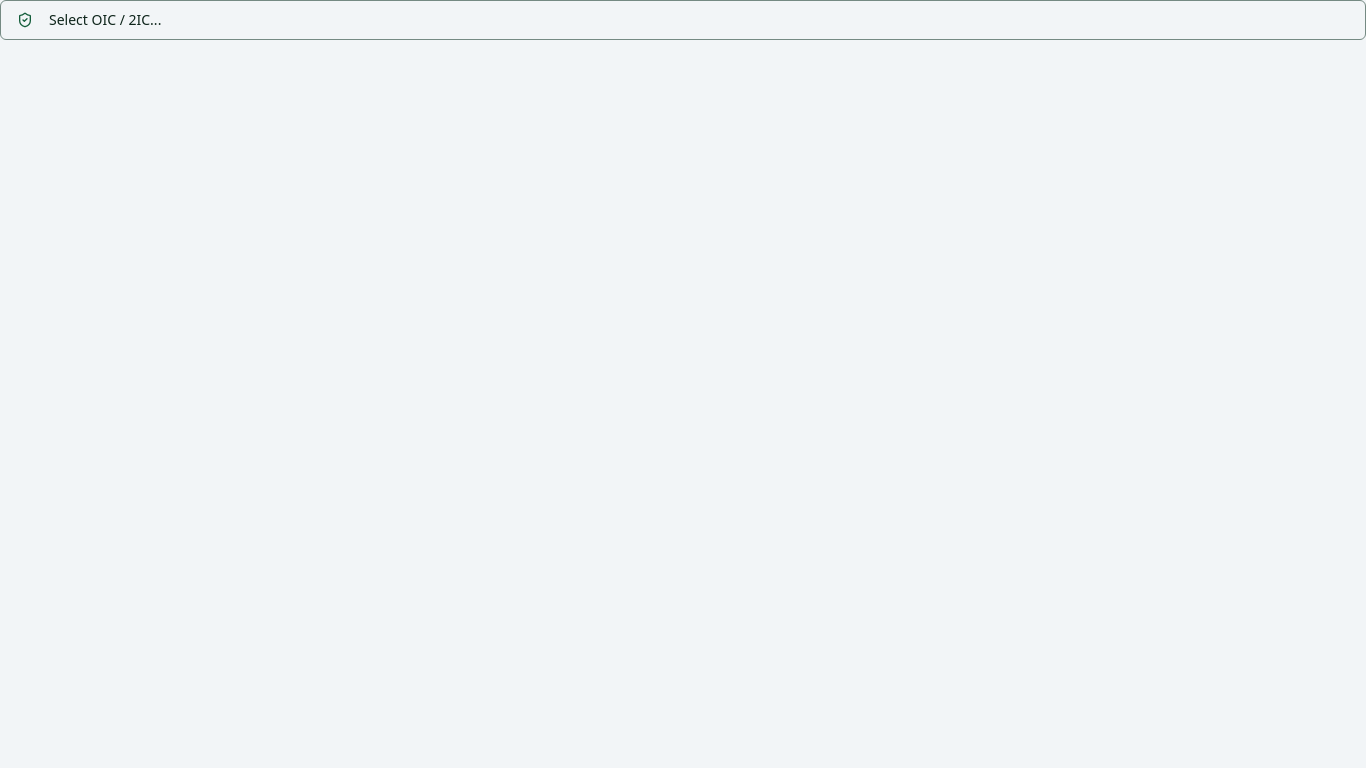
Test case: AuthorisedByPicker — keyboard navigation › Enter selects the highlighted officer and closes the dialog
Click the button "Select OIC / 2IC...".
click(105, 20)  # box 0,0 -> 1365,40
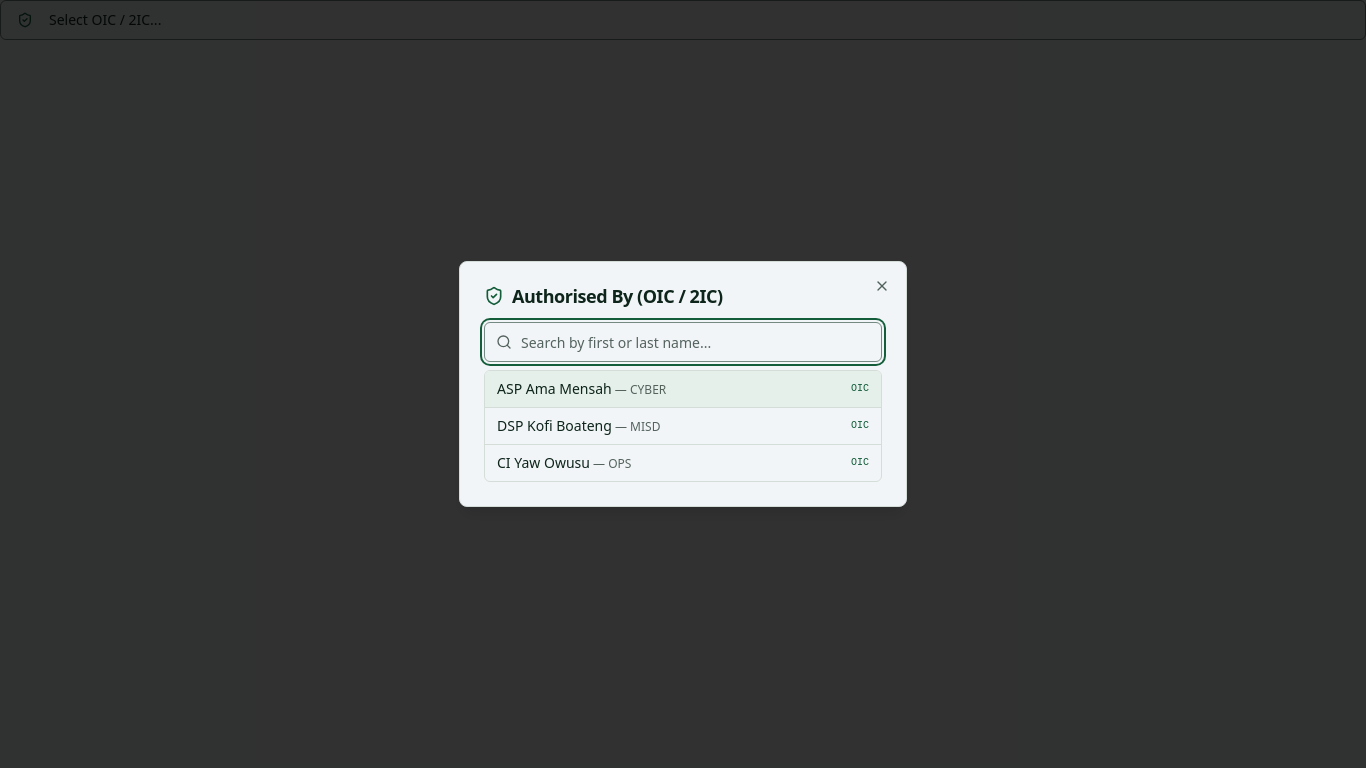
Expected: the text "ASP Ama Mensah — CYBER" is shown, 497,379 -> 666,399
Press Arrowdown Enter
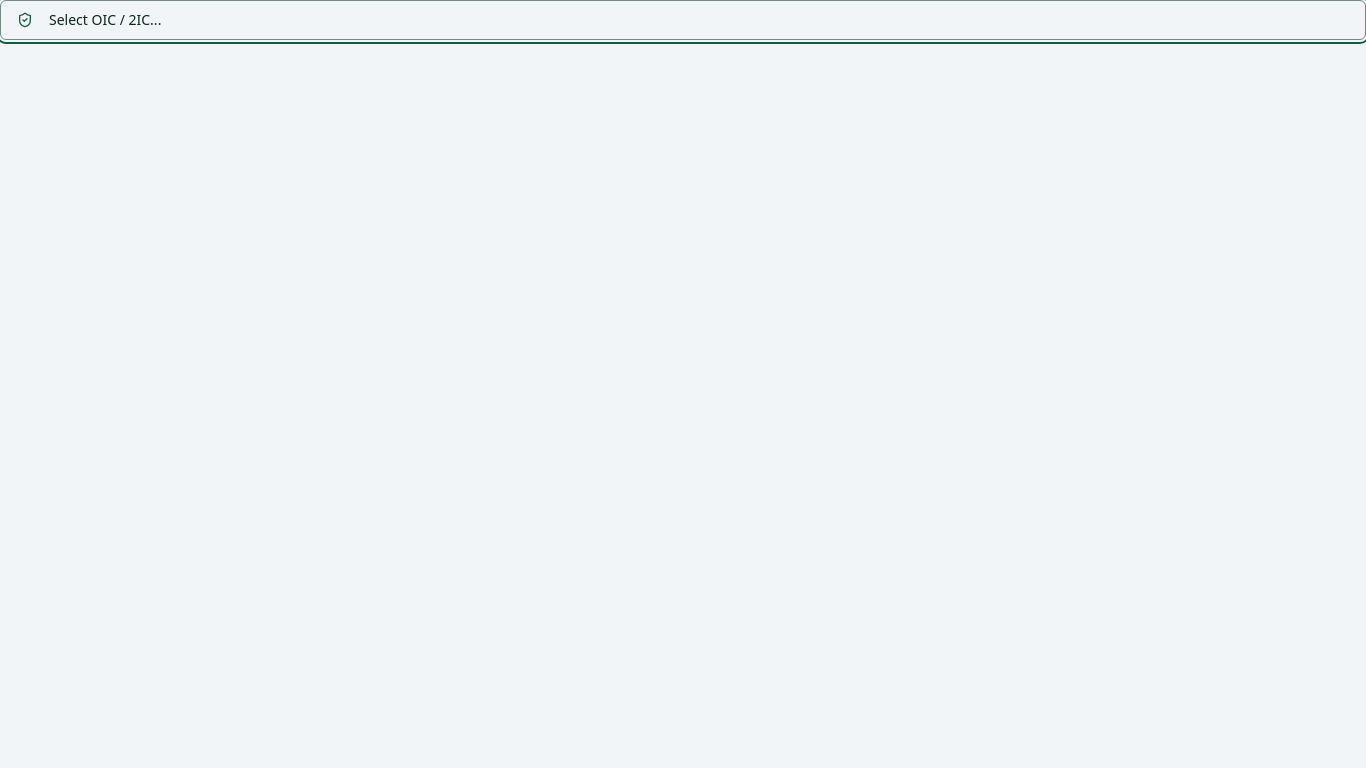
Expected: the option is gone
